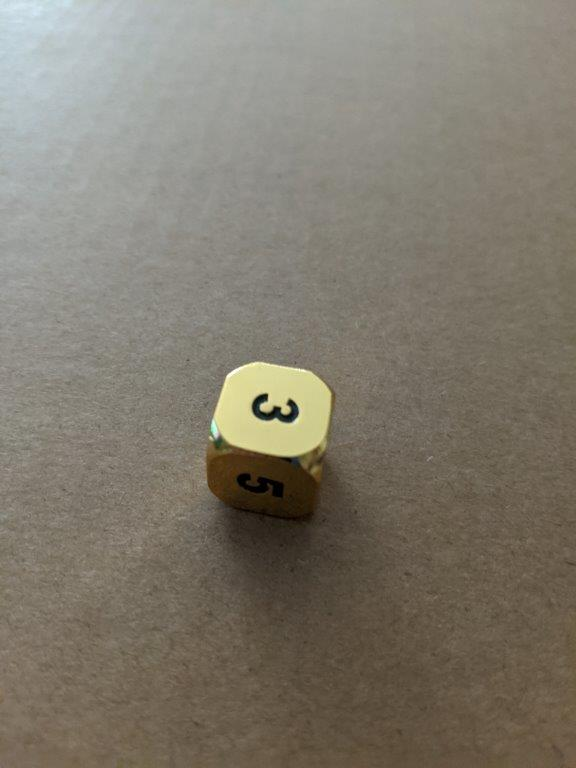d6-3: (205, 361, 335, 524)
